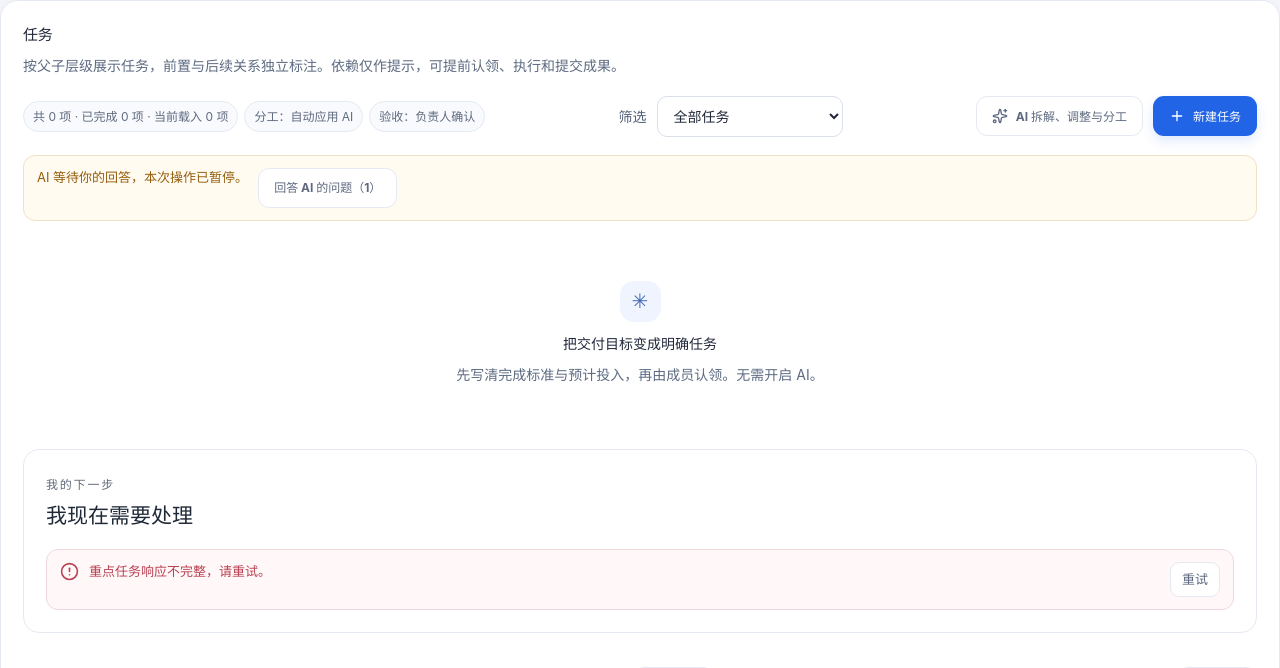
Test case: persisted project clarification › refreshes a stale revision, keeps the answer and submits the refreshed revision on retry
Click the button "回答 AI 的问题（1）": click(328, 188) [258, 168, 397, 208]
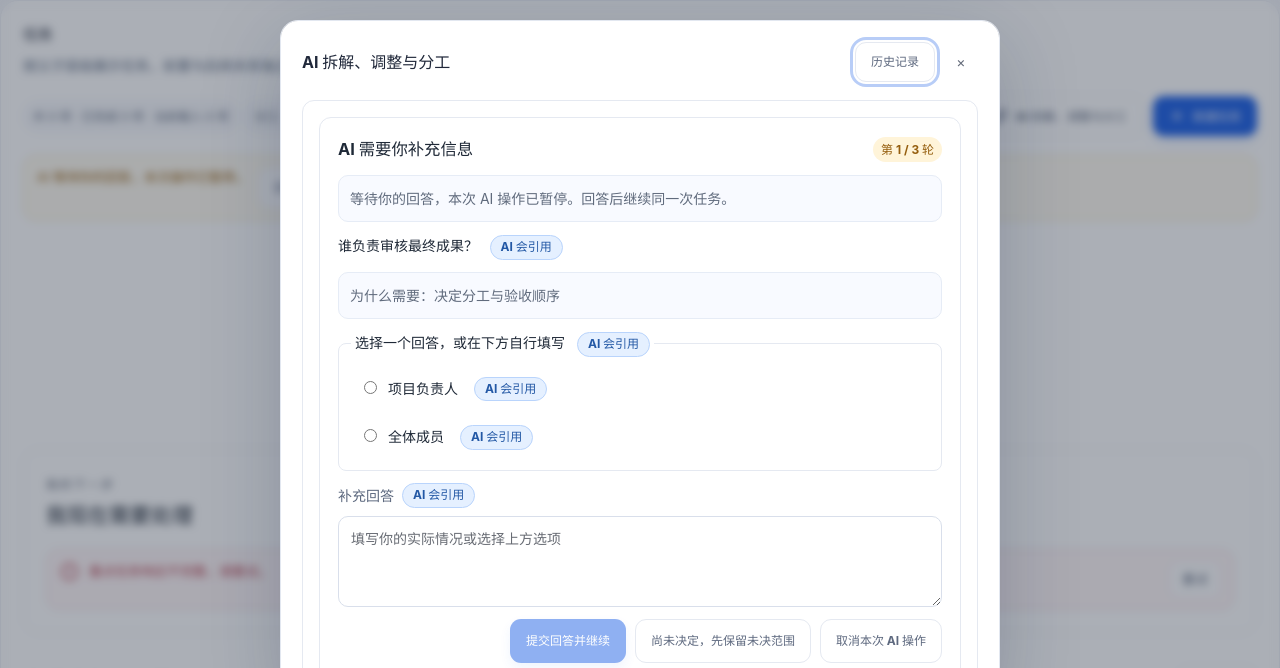
Result: the text "谁负责审核最终成果？" is shown at [338, 237, 478, 254]
Click the radio button labelled "全体成员": click(370, 436) [364, 429, 377, 442]
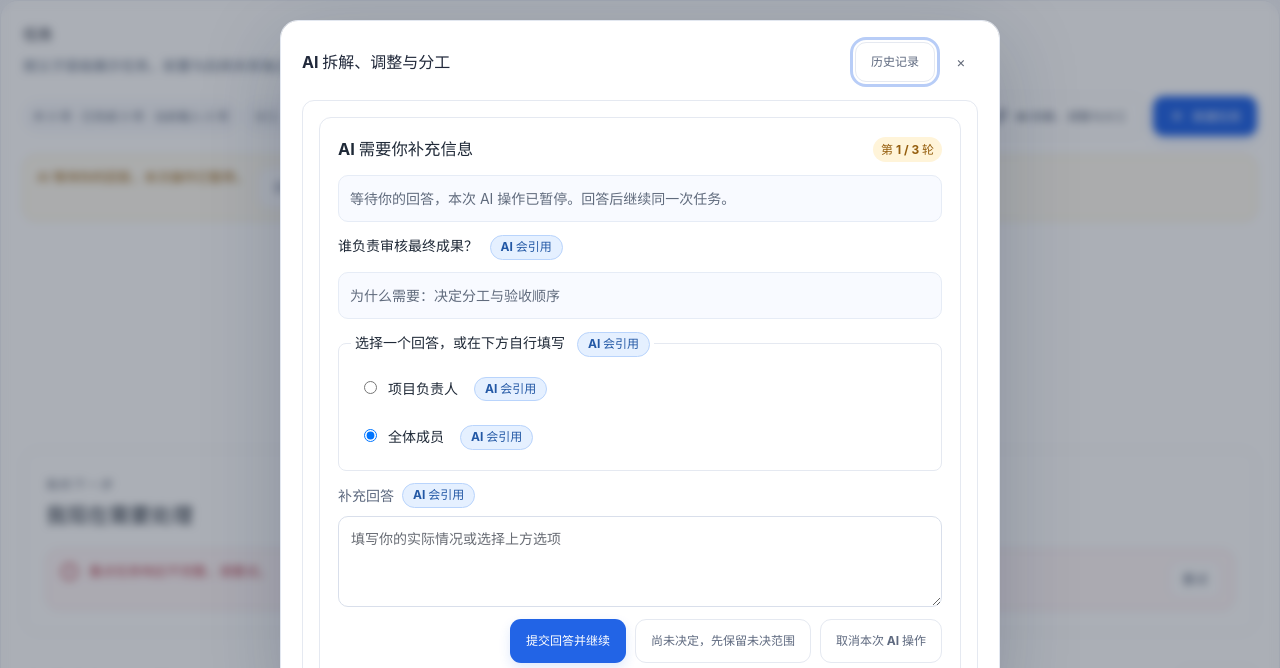
Click the button "提交回答并继续": click(568, 641) [510, 619, 626, 663]
(page scrolled)
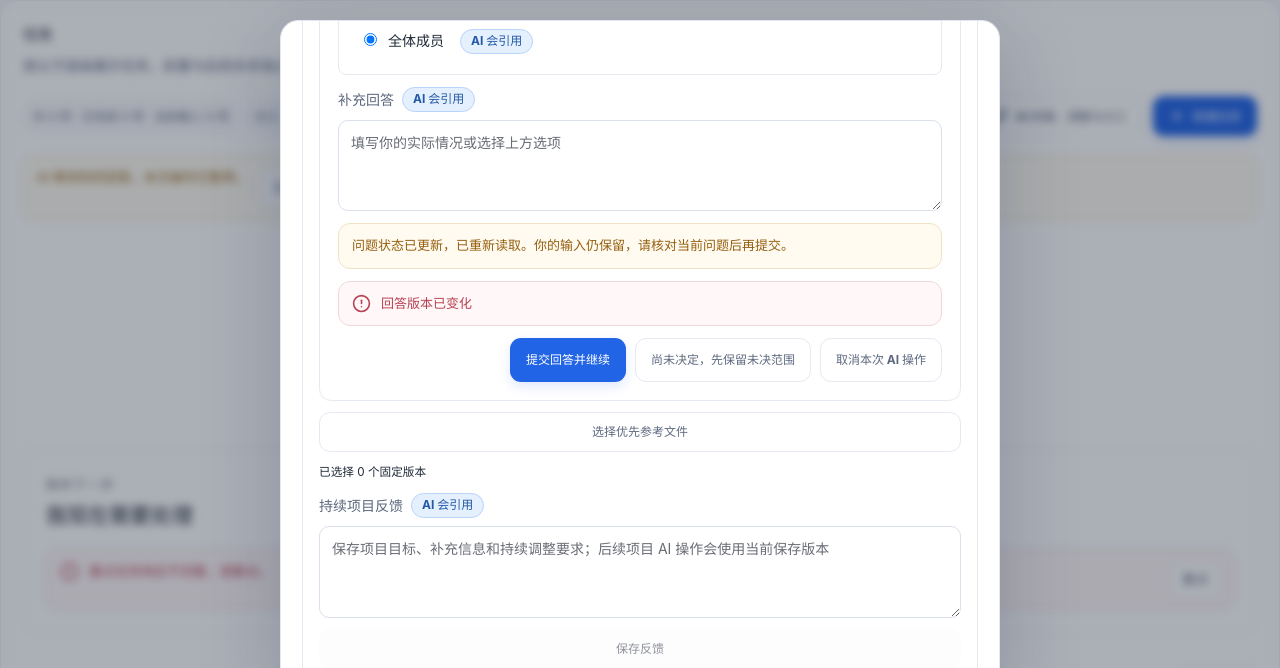
Result: the radio button labelled "全体成员" is checked at [364, 33, 377, 46]
Result: the button "提交回答并继续" is enabled
Result: the text "问题状态已更新，已重新读取。你的输入仍保留，请核对当前问题后再提交。" is shown at [338, 223, 942, 269]
Click the button "提交回答并继续": click(568, 360) [510, 338, 626, 382]
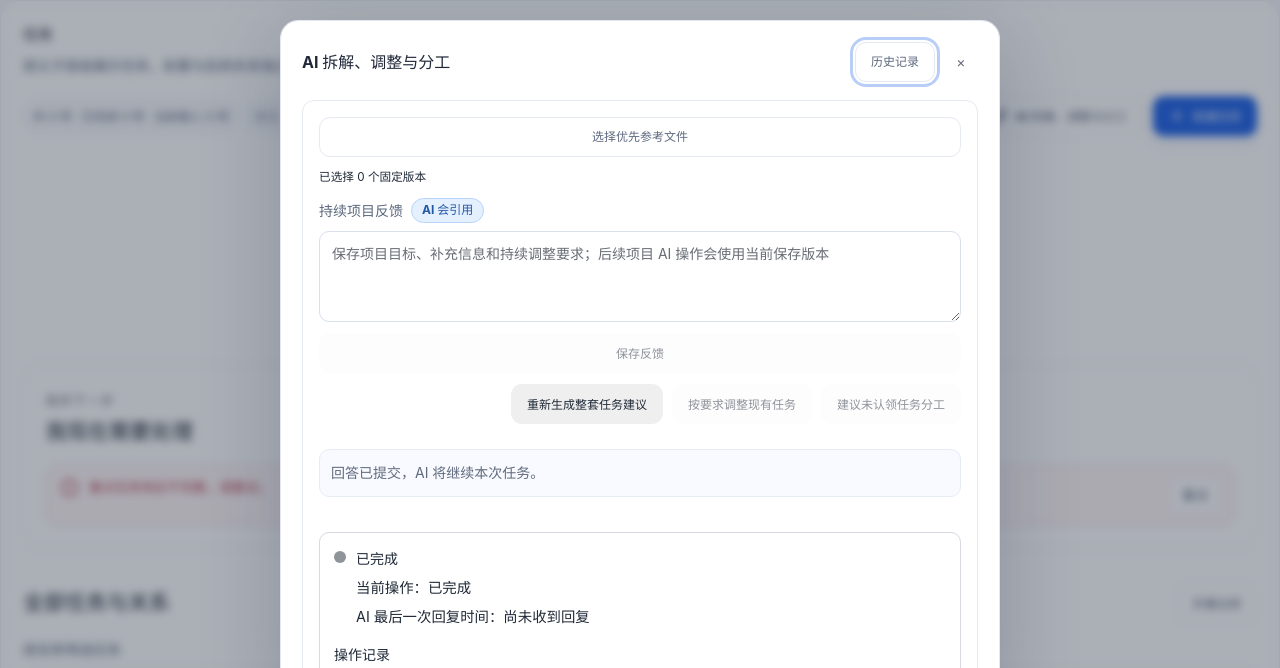
Result: the message shows "已完成" at [356, 550, 398, 566]
Result: the heading "操作记录" is shown at [334, 646, 390, 663]
